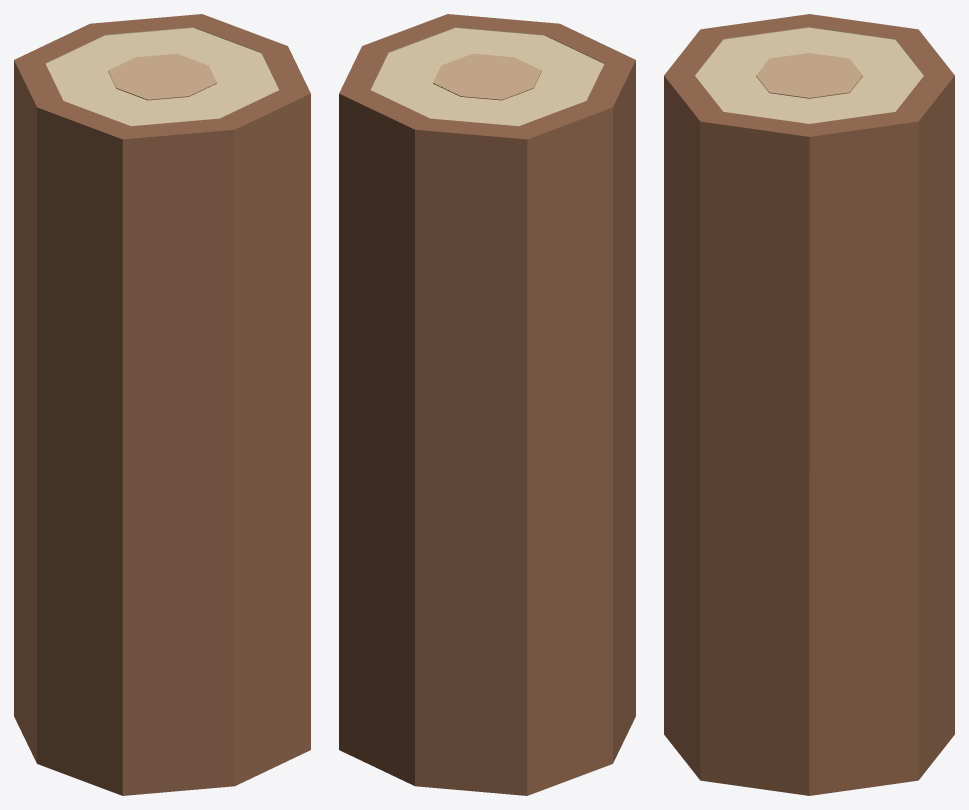
Rendered from OakLog.fbx.
3 views of the same model, side by side, from view 1: azimuth 30°, elevation 25°; view 2: azimuth 150°, elevation 25°; view 3: azimuth 270°, elevation 25° (orthographic).
Parts seen in each view (by area): view 1: Trunk; view 2: Trunk; view 3: Trunk.
Boxes of the visible parts, left/top/right/bottom form: Trunk: left=14, top=14, right=310, bottom=795; Trunk: left=339, top=14, right=635, bottom=795; Trunk: left=664, top=14, right=954, bottom=795.
Bounding box in the file's own units: 160 × 400 × 160.
